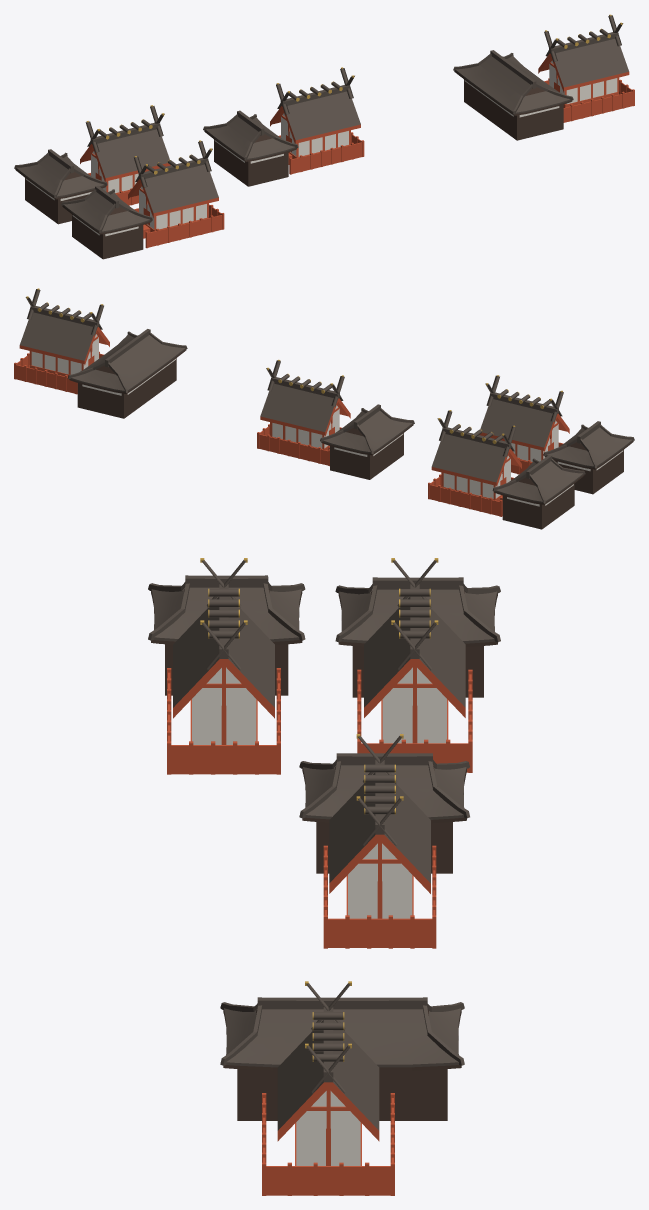
Rendered from osaka-sumiyoshi-taisha.glb.
The picture shows the model from 3 angles, top to bottom: view 1: azimuth 30°, elevation 25°; view 2: azimuth 150°, elevation 25°; view 3: azimuth 270°, elevation 25°; orthographic projection. The views are drawn at different scales.
Visible parts, largest first — view 1: Sumiyoshi Taisha; view 2: Sumiyoshi Taisha; view 3: Sumiyoshi Taisha.
Part boxes in pixels (x1,y1,x2,y2): Sumiyoshi Taisha: [14, 14, 634, 259]; Sumiyoshi Taisha: [14, 288, 634, 529]; Sumiyoshi Taisha: [148, 558, 500, 1195].
Bounding box in the file's own units: 96.54 × 12.3 × 26.37.
